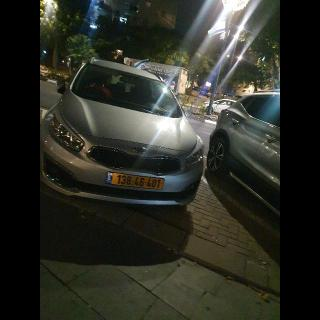LicensePlate: (112, 173, 164, 190)
